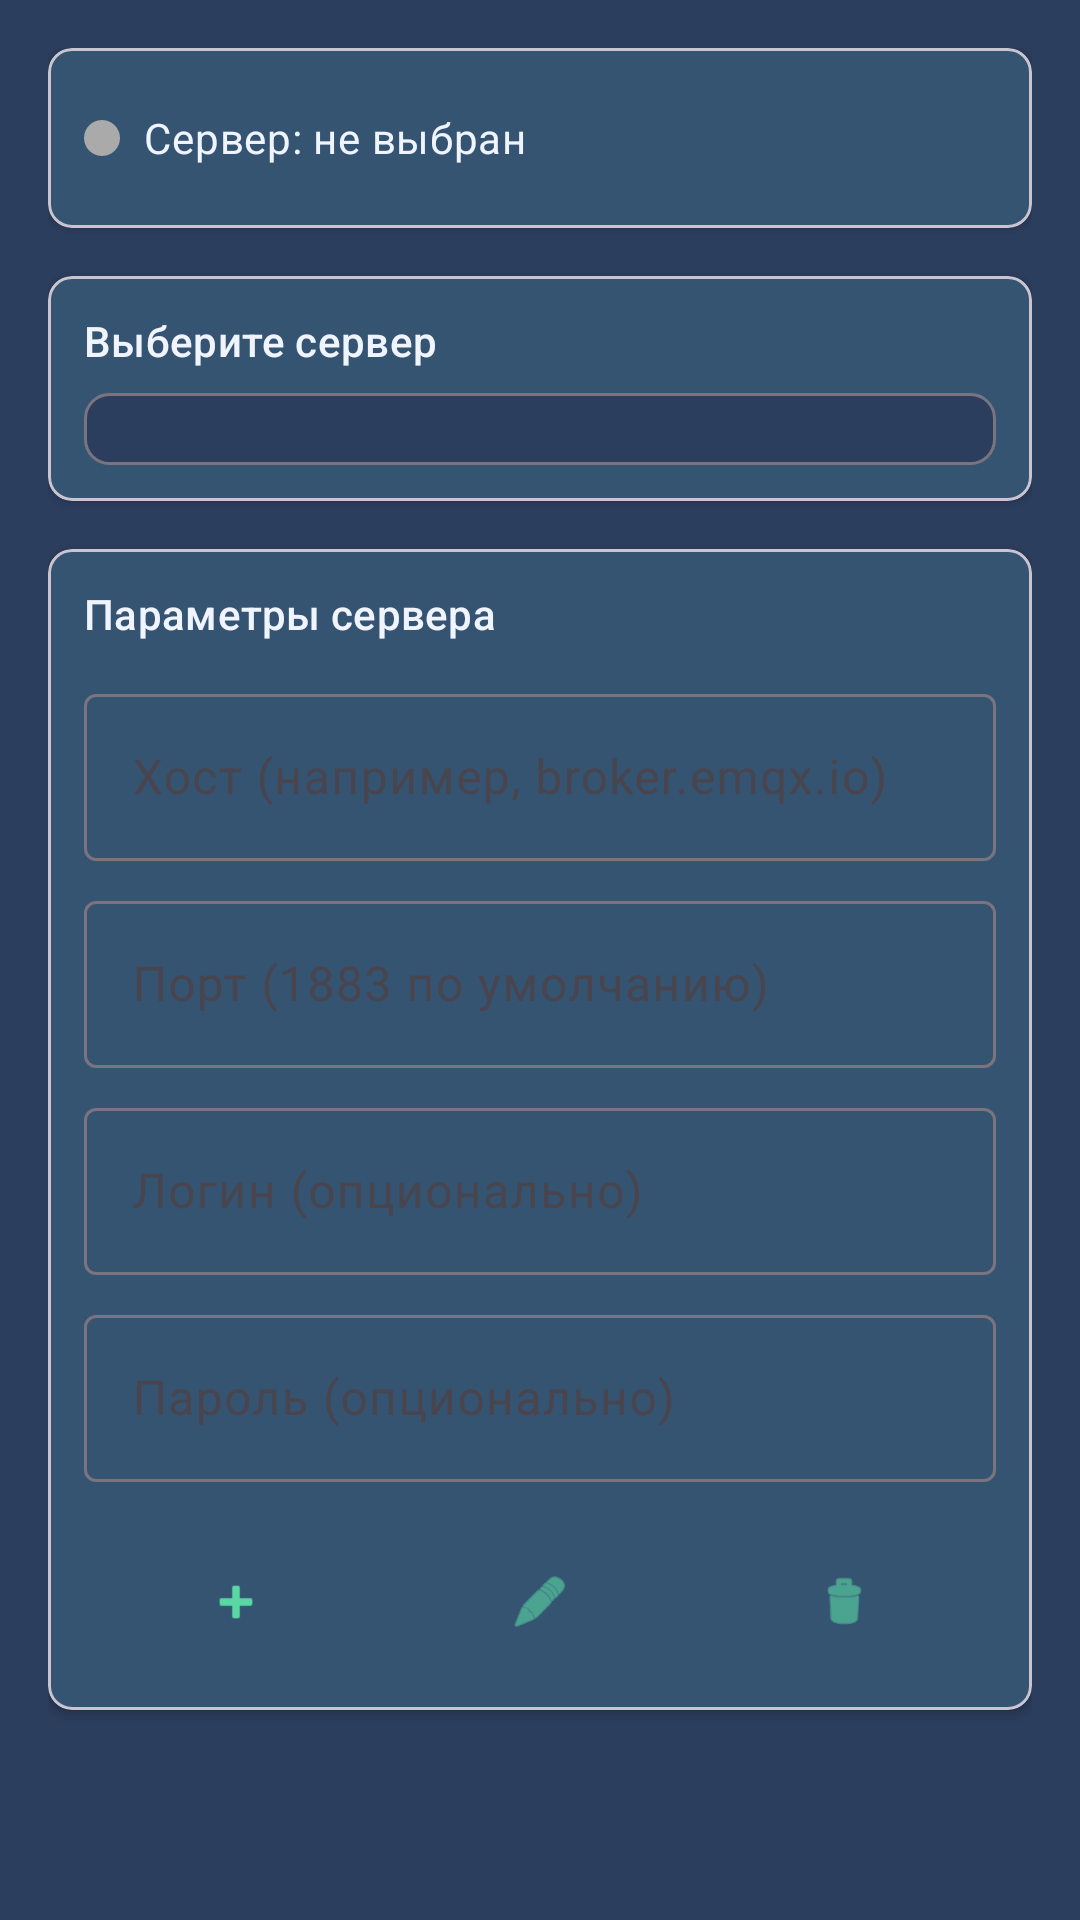

Where to tap for icons on this 1080×1920 app screen, as point (x, y):
Добавить: point (236, 1602)
Удалить: point (844, 1601)
